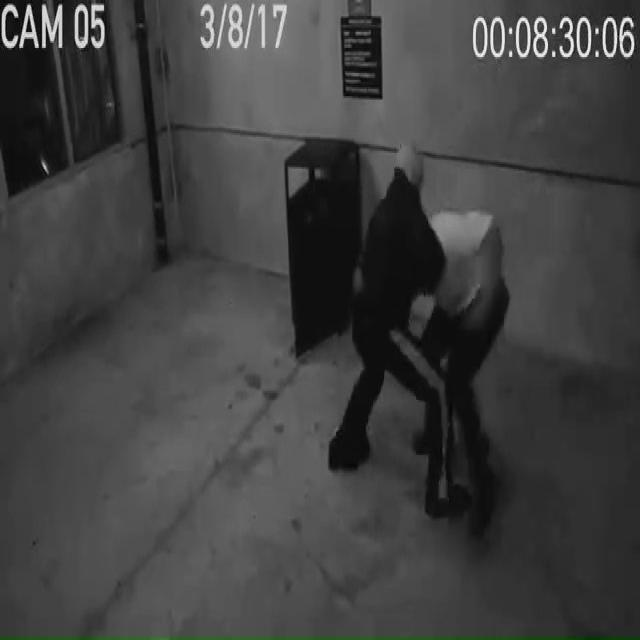fight: (326, 123, 543, 571)
